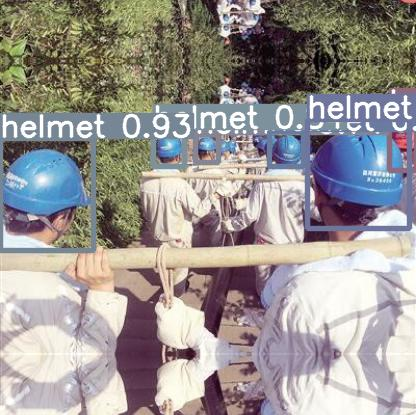helmet: (307, 119, 409, 228), (0, 138, 93, 250), (389, 113, 416, 170), (269, 131, 303, 166), (153, 129, 184, 166), (195, 134, 218, 162)
